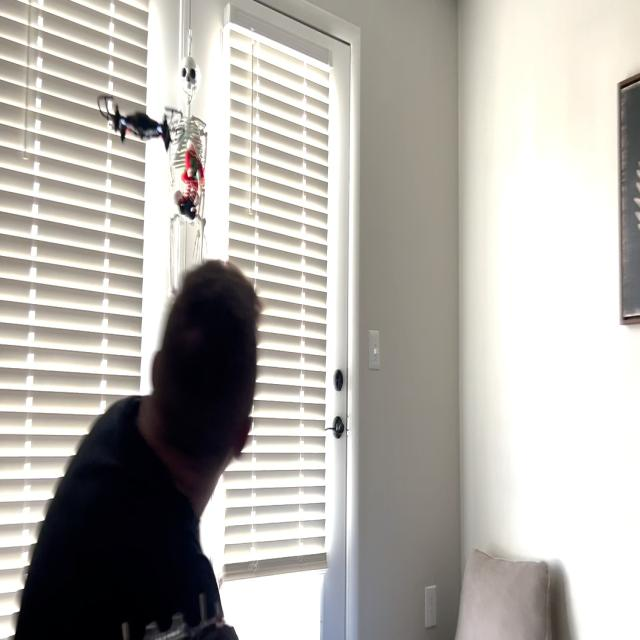drone: (91, 58, 190, 170)
